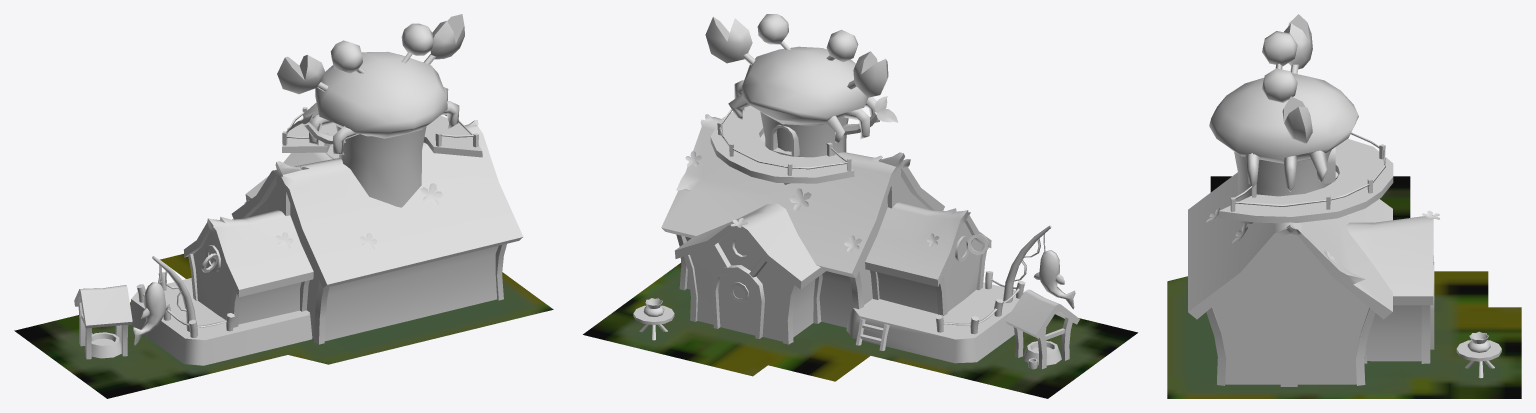
The model's file is P_build_1201_new.fbx.
3 views of the same model, side by side, from view 1: azimuth 30°, elevation 25°; view 2: azimuth 150°, elevation 25°; view 3: azimuth 270°, elevation 25° (orthographic). The views are drawn at different scales.
Parts seen in each view (by area): view 1: S_build_1201_new_a, S_build_1201_new_b; view 2: S_build_1201_new_a, S_build_1201_new_b; view 3: S_build_1201_new_a, S_build_1201_new_b.
Part boxes in pixels (left/top/right/bottom): S_build_1201_new_a: left=74, top=14, right=523, bottom=365; S_build_1201_new_b: left=14, top=254, right=553, bottom=398; S_build_1201_new_a: left=633, top=14, right=1079, bottom=369; S_build_1201_new_b: left=583, top=263, right=1137, bottom=398; S_build_1201_new_a: left=1188, top=14, right=1501, bottom=386; S_build_1201_new_b: left=1167, top=176, right=1521, bottom=398.
Bounding box in the file's own units: 10.51 × 6.31 × 7.06.
2 materials, 1 textured.
